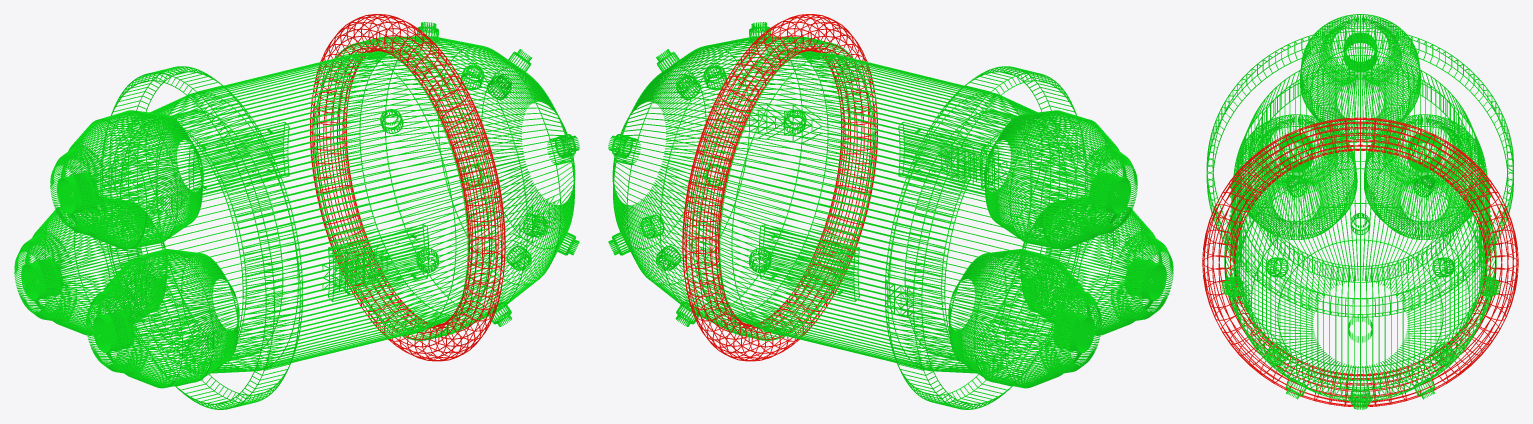
The model's file is static-inducer-highlight-toroidal-interference-coil.glb.
3 renders of one model, left to right at view 1: azimuth 30°, elevation 25°; view 2: azimuth 150°, elevation 25°; view 3: azimuth 270°, elevation 25°, orthographic. The views are drawn at different scales.
Parts seen in each view (by area): view 1: chassis technical wire, tri-phase-power-input technical wire, transmitter-array technical wire, toroidal-interference-coil technical wire; view 2: chassis technical wire, tri-phase-power-input technical wire, transmitter-array technical wire, toroidal-interference-coil technical wire; view 3: chassis technical wire, tri-phase-power-input technical wire, transmitter-array technical wire, toroidal-interference-coil technical wire.
Part boxes in pixels (x1,y1,x2,y2): chassis technical wire: (100,49,495,409); tri-phase-power-input technical wire: (14,110,239,388); transmitter-array technical wire: (315,22,579,340); toroidal-interference-coil technical wire: (310,14,505,361); chassis technical wire: (692,49,1087,409); tri-phase-power-input technical wire: (948,110,1173,388); transmitter-array technical wire: (608,22,872,340); toroidal-interference-coil technical wire: (682,14,877,361); chassis technical wire: (1206,27,1513,381); tri-phase-power-input technical wire: (1236,14,1484,239); transmitter-array technical wire: (1221,132,1500,409); toroidal-interference-coil technical wire: (1202,117,1518,407).
Size of the model in its own units: 1.75 by 1.07 by 1.07.
